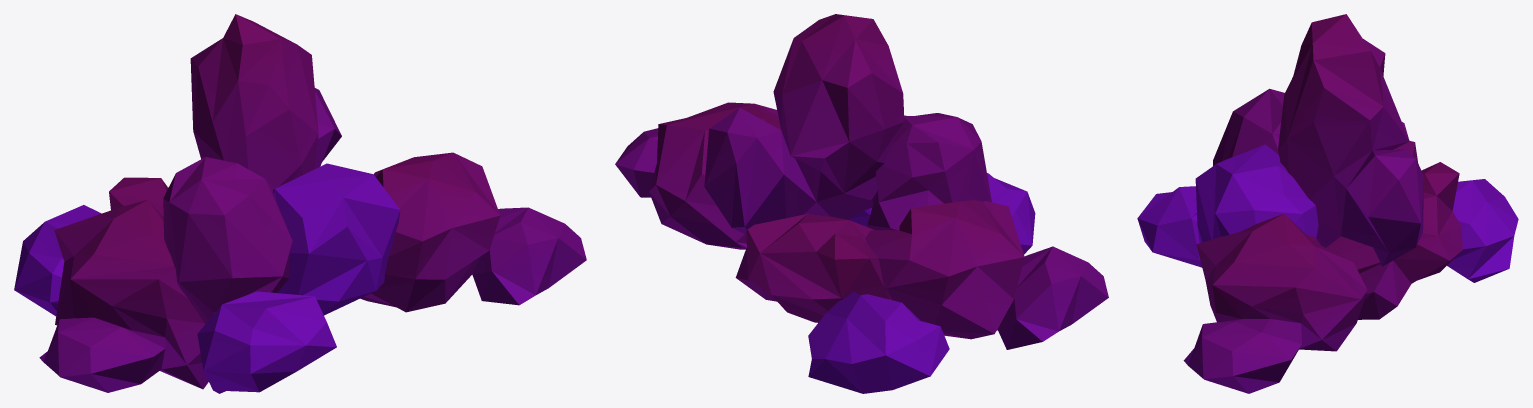
File: SM_Env_Bush_Cluster_01.glb
3 views of the same model, side by side, from view 1: azimuth 30°, elevation 25°; view 2: azimuth 150°, elevation 25°; view 3: azimuth 270°, elevation 25° (orthographic). The views are drawn at different scales.
Parts seen in each view (by area): view 1: SM_Env_Bush_Cluster_01; view 2: SM_Env_Bush_Cluster_01; view 3: SM_Env_Bush_Cluster_01.
Part boxes in pixels (box(x1,y1,x2,y2)): SM_Env_Bush_Cluster_01: box(14, 14, 586, 393); SM_Env_Bush_Cluster_01: box(615, 14, 1108, 393); SM_Env_Bush_Cluster_01: box(1137, 14, 1518, 393).
Bounding box in the file's own units: 15.26 × 9.42 × 10.59.
